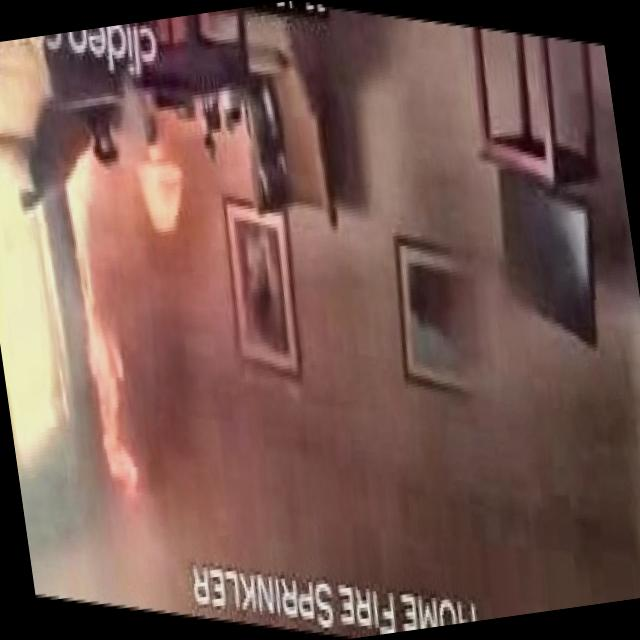fire: (21, 121, 198, 542)
